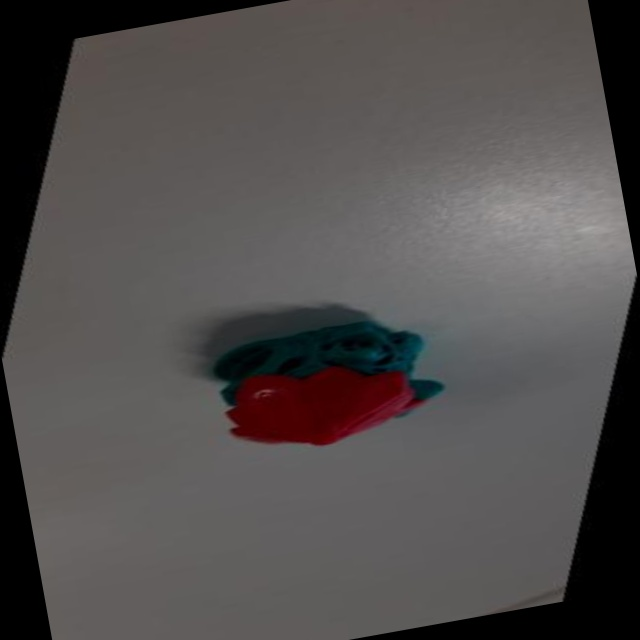House: (156, 290, 477, 483)
